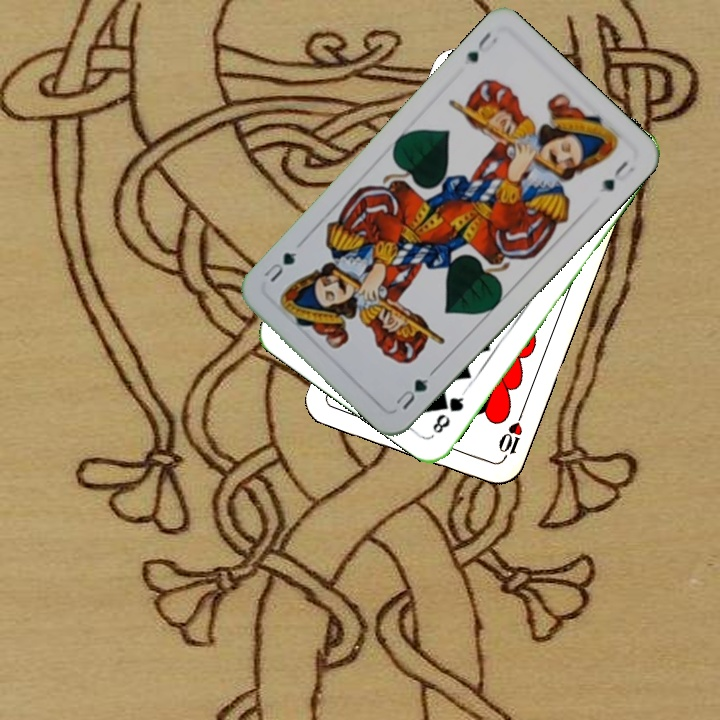G8: (428, 387, 468, 437)
GU: (390, 374, 431, 413), (462, 27, 500, 65)
H10: (494, 408, 526, 465)
